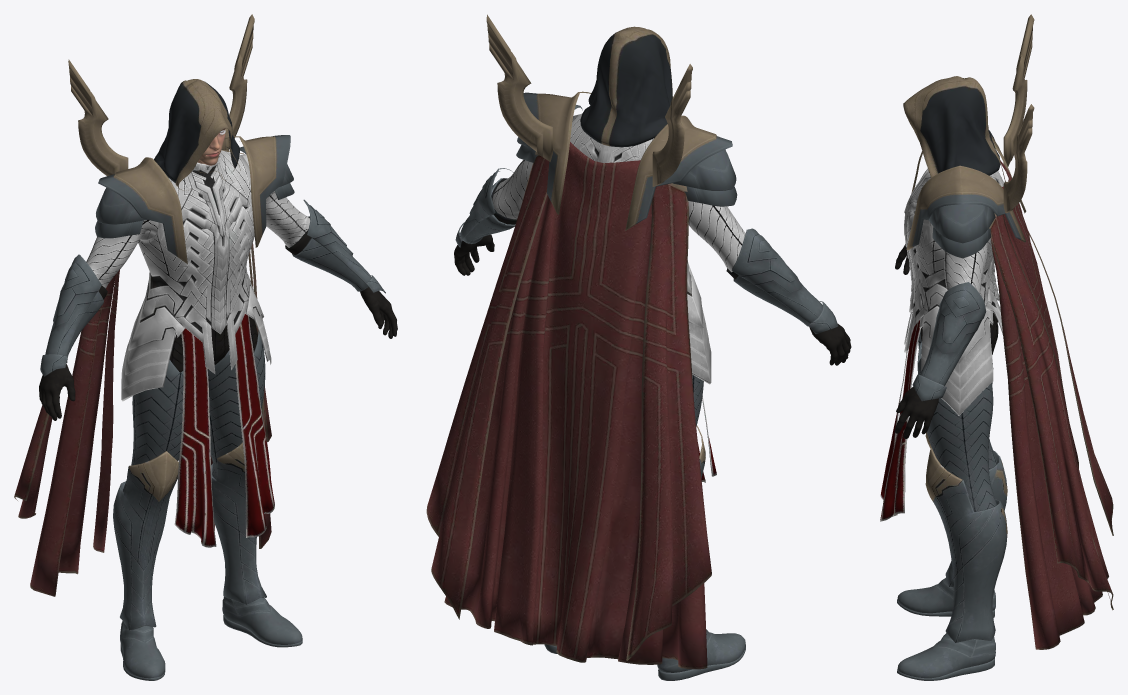
3 views of the same model, side by side, from view 1: azimuth 30°, elevation 25°; view 2: azimuth 150°, elevation 25°; view 3: azimuth 270°, elevation 25° (orthographic). The views are drawn at different scales.
Visible parts, largest first — view 1: GM_DebGuard_02_Body, GM_DebGuard_02_Boots, GM_DebGuard_02_Cape, GM_DebGuard_02_Shoulder, GM_DebGuard_02_Glove, GM_DebGuard_02_Pants, GM_DebGuard_02_Helmet; view 2: GM_DebGuard_02_Cape, GM_DebGuard_02_Shoulder, GM_DebGuard_02_Helmet, GM_DebGuard_02_Glove, GM_DebGuard_02_Body, GM_DebGuard_02_Boots; view 3: GM_DebGuard_02_Cape, GM_DebGuard_02_Boots, GM_DebGuard_02_Body, GM_DebGuard_02_Shoulder, GM_DebGuard_02_Helmet, GM_DebGuard_02_Glove, GM_DebGuard_02_Pants.
Boxes of the visible parts, x1,y1,x2,y2 form: GM_DebGuard_02_Body: (86,150,310,547); GM_DebGuard_02_Boots: (113,442,302,680); GM_DebGuard_02_Cape: (14,150,271,596); GM_DebGuard_02_Shoulder: (68,14,294,264); GM_DebGuard_02_Glove: (39,199,397,420); GM_DebGuard_02_Pants: (123,316,265,492); GM_DebGuard_02_Helmet: (154,79,240,190); GM_DebGuard_02_Cape: (426,142,711,669); GM_DebGuard_02_Shoulder: (486,14,737,230); GM_DebGuard_02_Helmet: (580,26,672,147); GM_DebGuard_02_Glove: (454,168,851,365); GM_DebGuard_02_Body: (492,113,745,482); GM_DebGuard_02_Boots: (544,425,745,680); GM_DebGuard_02_Cape: (989,160,1113,649); GM_DebGuard_02_Boots: (897,432,1007,680); GM_DebGuard_02_Body: (880,168,1003,521); GM_DebGuard_02_Shoulder: (906,14,1034,258); GM_DebGuard_02_Helmet: (903,76,1000,177); GM_DebGuard_02_Glove: (895,244,986,438); GM_DebGuard_02_Pants: (917,312,998,511).
Size of the model in its own units: 1.25 by 1.98 by 0.7207.
Materials: 10 (9 with a texture image).
